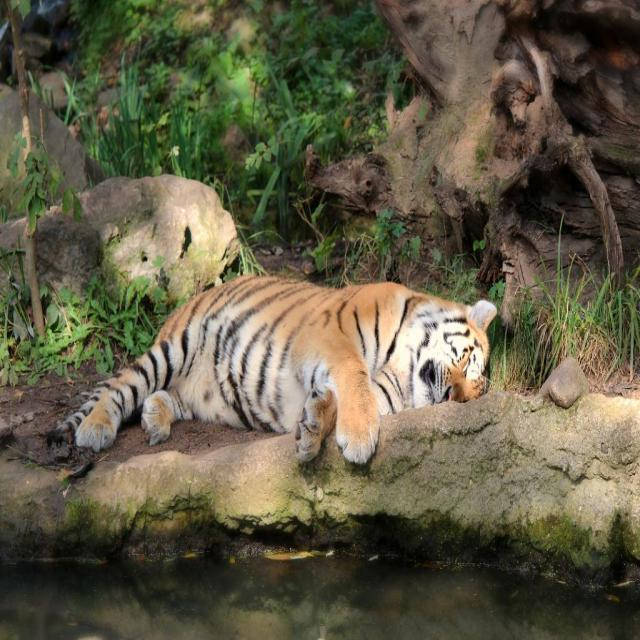Tiger: (46, 269, 499, 466)
